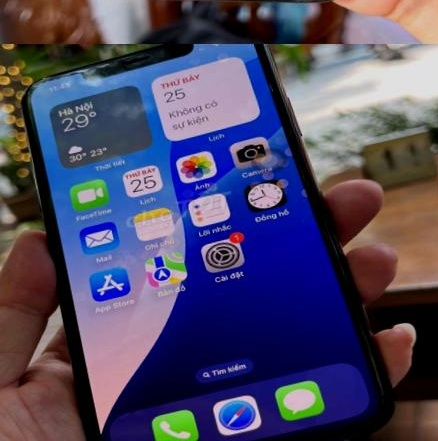scratch: (33, 57, 128, 93)
